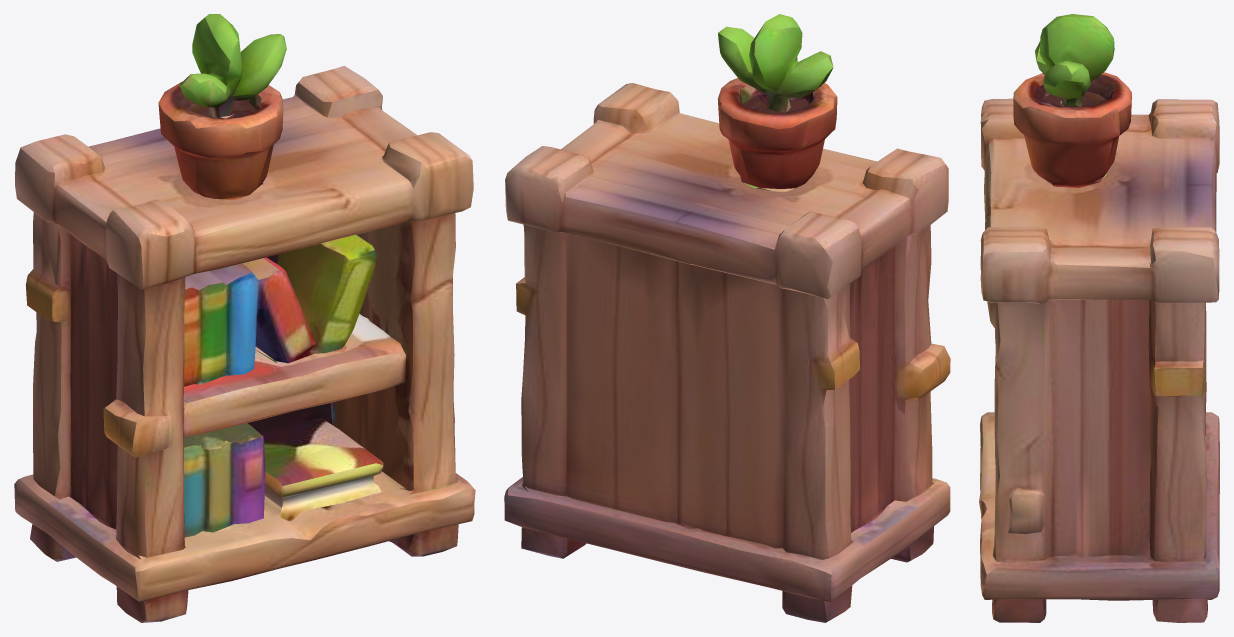
File: bookcase_small.glb
3 views of the same model, side by side, from view 1: azimuth 30°, elevation 25°; view 2: azimuth 150°, elevation 25°; view 3: azimuth 270°, elevation 25° (orthographic). The views are drawn at different scales.
Parts seen in each view (by area): view 1: bookcase_small_s41; view 2: bookcase_small_s41; view 3: bookcase_small_s41.
Boxes of the visible parts, x1,y1,x2,y2 form: bookcase_small_s41: [14, 14, 475, 622]; bookcase_small_s41: [504, 14, 950, 622]; bookcase_small_s41: [979, 14, 1219, 622].
Bounding box in the file's own units: 0.659 × 1 × 0.4205.
Materials: 1 (1 with a texture image).
